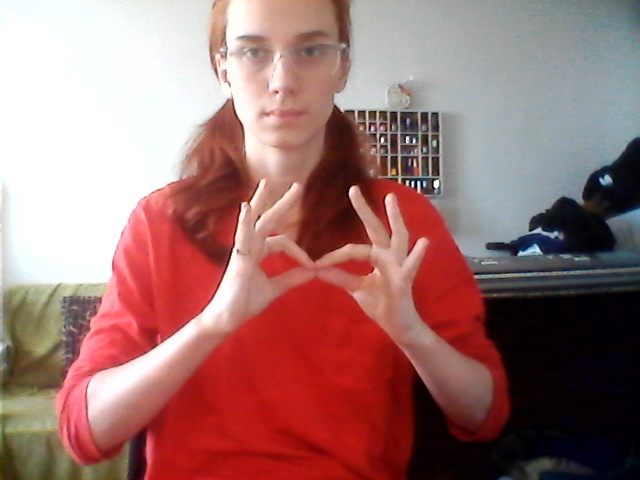b: (215, 174, 438, 339)
